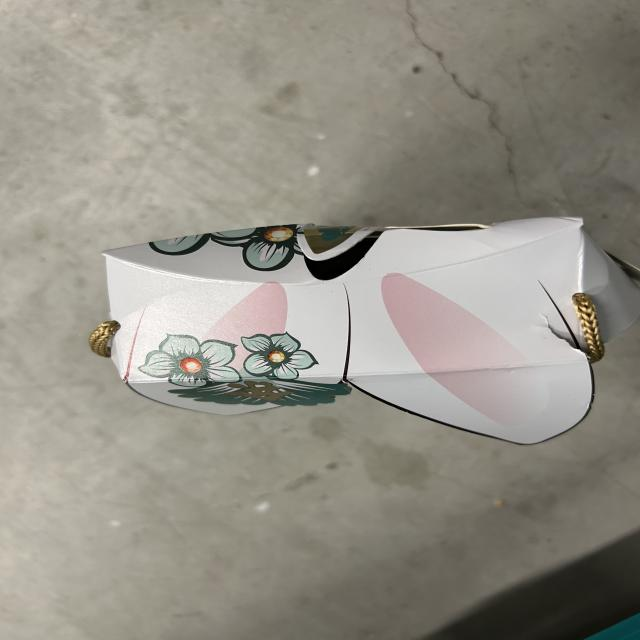object_name: (115, 240, 589, 418)
